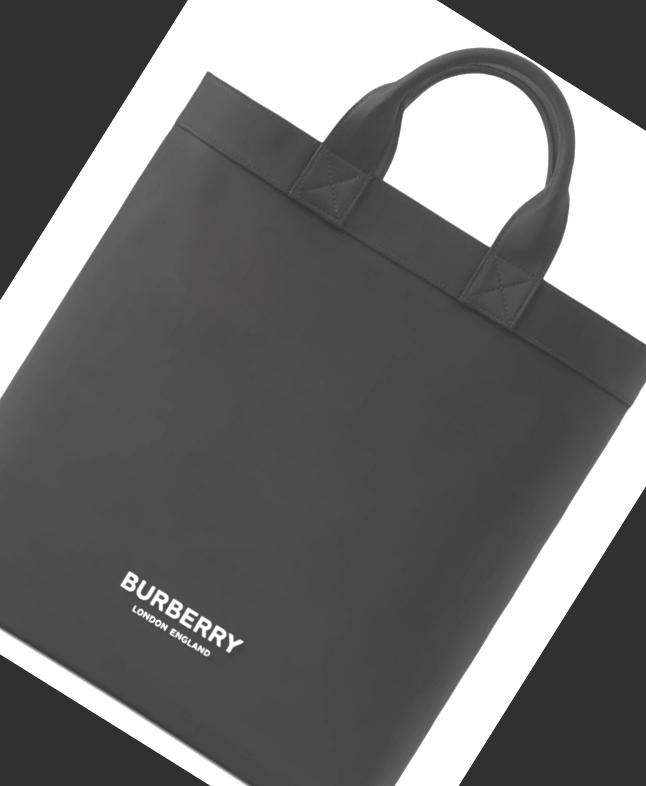BURBERRY: (119, 570, 244, 658)
